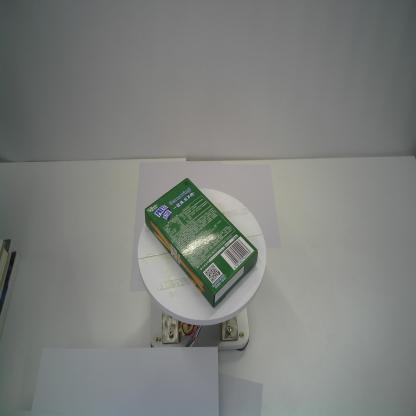Dessert: (144, 177, 259, 309)
